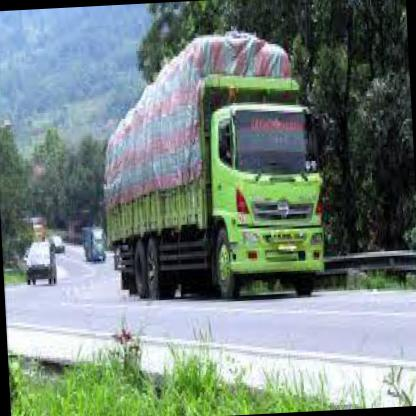truck: (206, 94, 329, 305)
